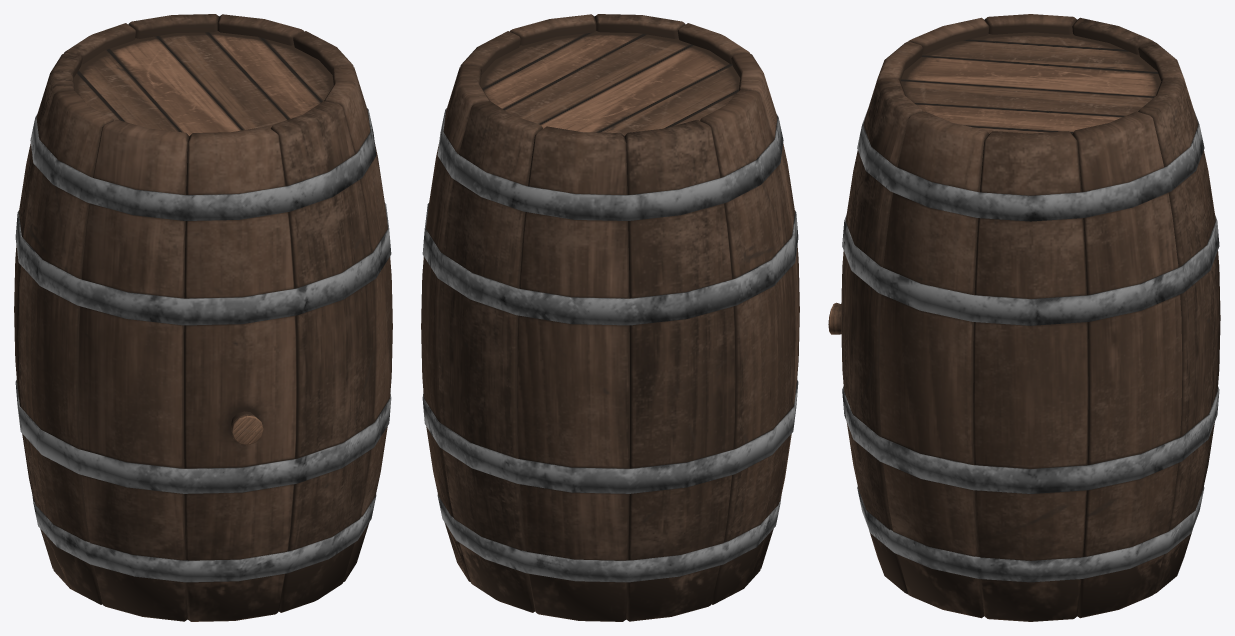
The model's file is Barril.fbx.
3 renders of one model, left to right at view 1: azimuth 30°, elevation 25°; view 2: azimuth 150°, elevation 25°; view 3: azimuth 270°, elevation 25°, orthographic.
Visible parts, largest first — view 1: Barrel1; view 2: Barrel1; view 3: Barrel1.
Part boxes in pixels (left/top/right/bottom): Barrel1: left=14, top=14, right=392, bottom=621; Barrel1: left=421, top=14, right=799, bottom=621; Barrel1: left=828, top=14, right=1220, bottom=621.
Bounding box in the file's own units: 163 × 228 × 168.
